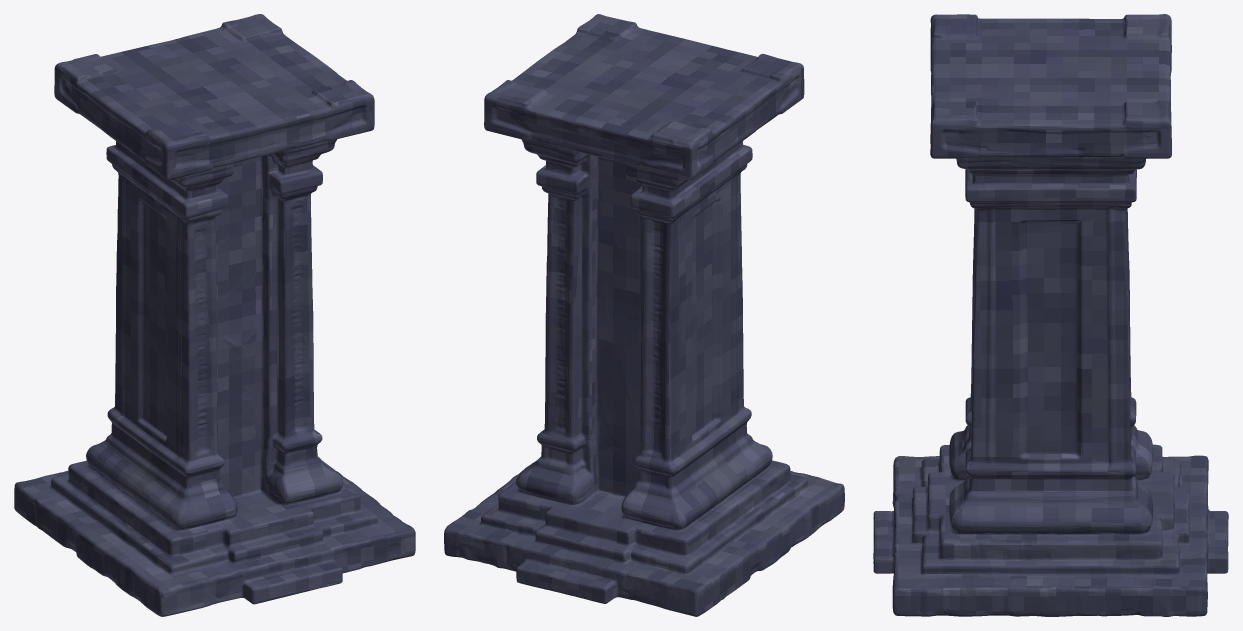
Rendered from weathered-monolith-pillar-generated-2026-04-19T23-30-13-924Z.medium.glb.
3 views of the same model, side by side, from view 1: azimuth 30°, elevation 25°; view 2: azimuth 150°, elevation 25°; view 3: azimuth 270°, elevation 25° (orthographic). The views are drawn at different scales.
Parts seen in each view (by area): view 1: temp_mesh.ply; view 2: temp_mesh.ply; view 3: temp_mesh.ply.
Part boxes in pixels (left/top/right/bottom): temp_mesh.ply: left=14, top=14, right=415, bottom=616; temp_mesh.ply: left=444, top=14, right=844, bottom=616; temp_mesh.ply: left=873, top=14, right=1228, bottom=616.
Bounding box in the file's own units: 1.17 × 1.97 × 1.31.
1 material, 1 textured.
